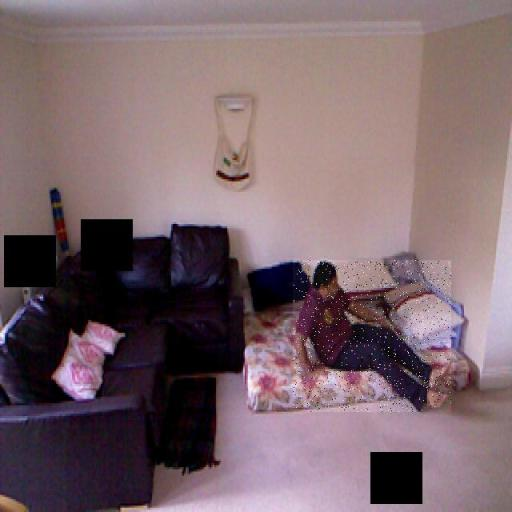Fall: (293, 260, 451, 412)
